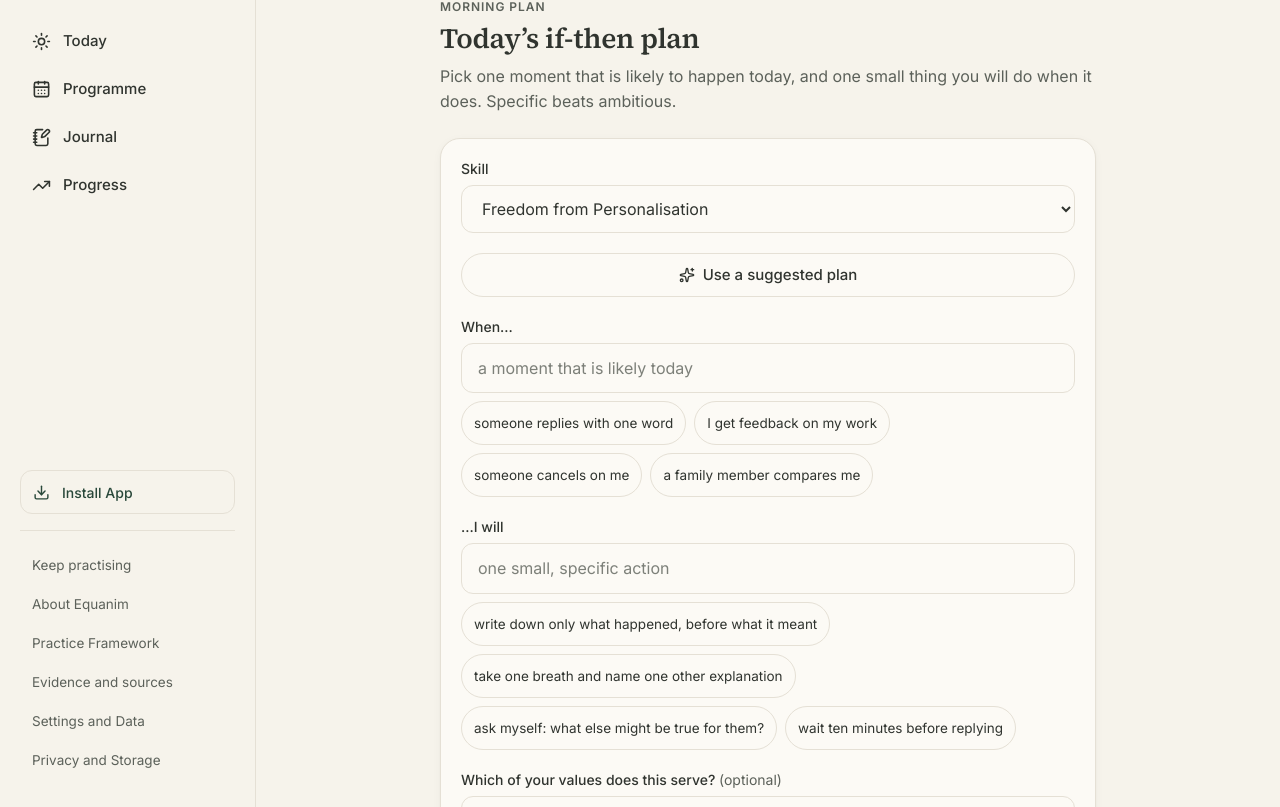
Test case: values in plans › the plan builder offers the user’s three values with their sentences, saves valueId, and Today shows it
Expected: the text "Which of your values does this serve?" is shown, 461,771 -> 719,788
Type "a message is unclear" into the field labelled "When…" at x=768, y=368, box 461,343 -> 1075,393
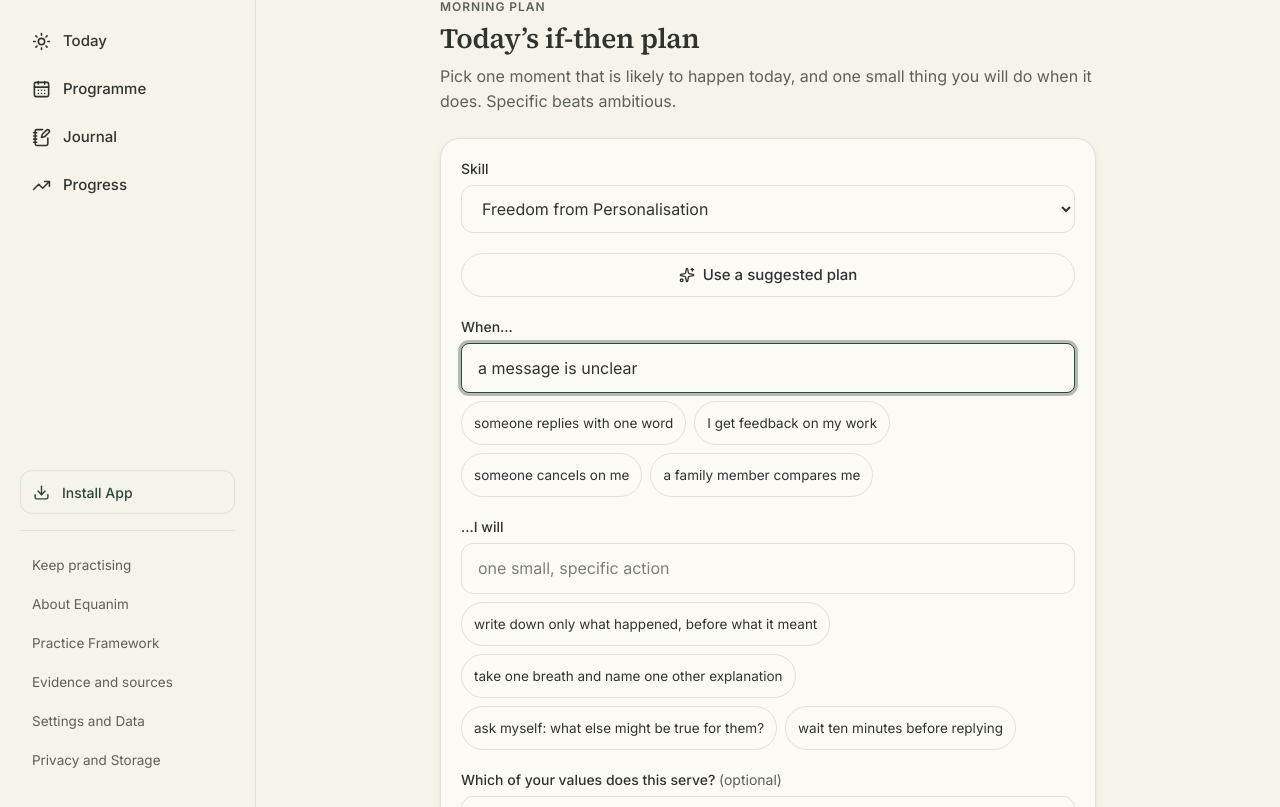
Type "ask one question" into the field labelled "…I will" at x=768, y=569, box 461,543 -> 1075,594
(page scrolled)
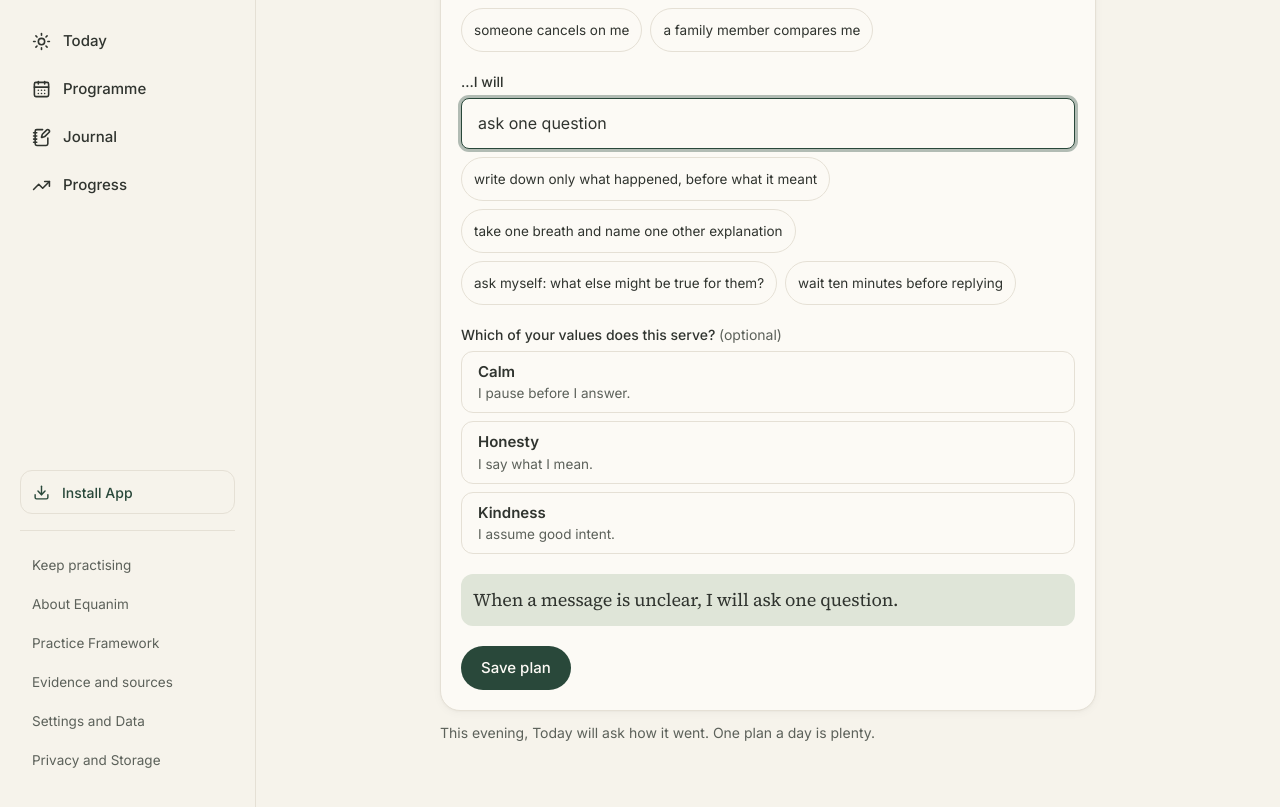
Click the checkbox labelled "Calm I pause before I answer." at x=497, y=372, box 461,351 -> 1075,413
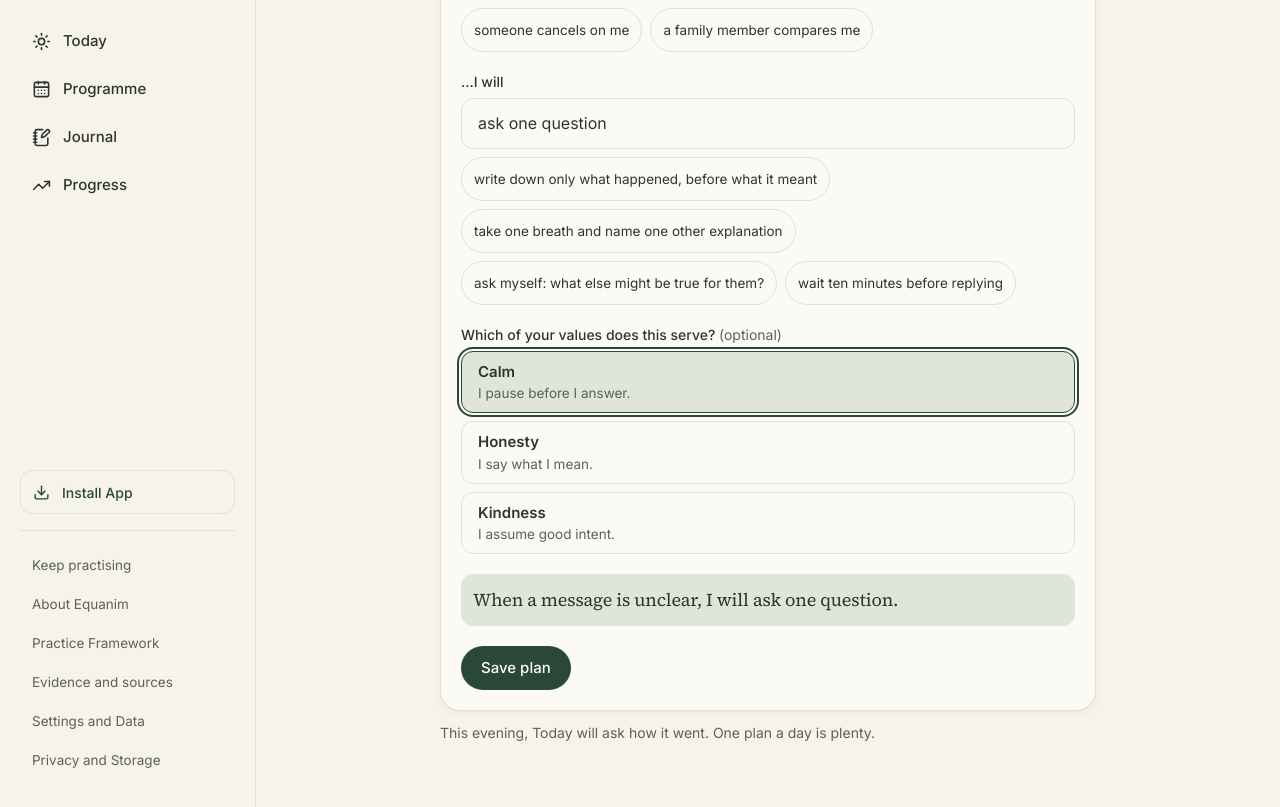
Click the button "Save plan" at x=516, y=668, box 461,646 -> 571,690
(page scrolled)
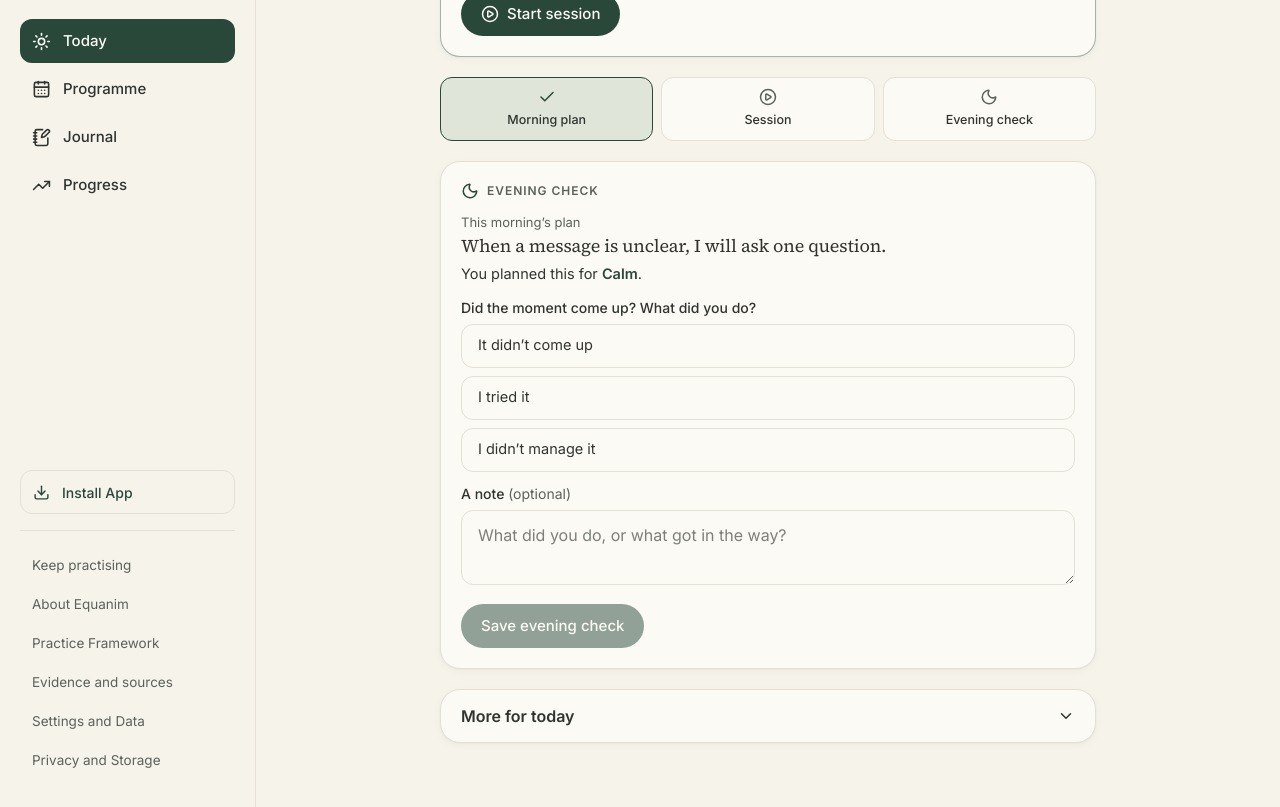
Expected: the element with test id "plan-value" reads "You planned this for Calm.", 461,265 -> 642,282
